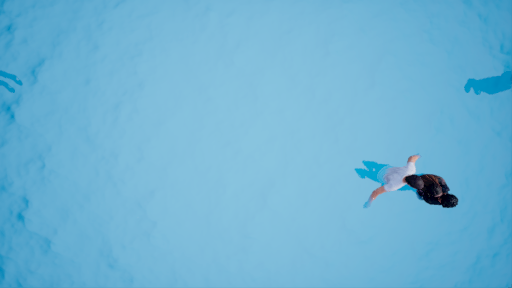person: (348, 144, 426, 197), (410, 161, 463, 215), (460, 55, 512, 96)
